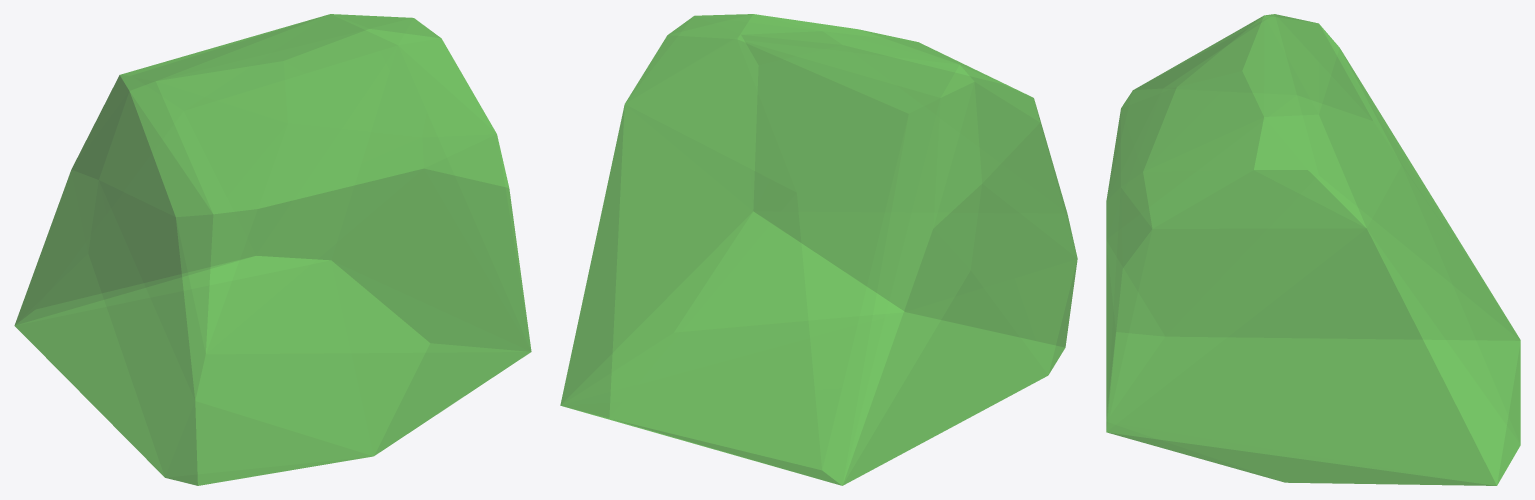
3 renders of one model, left to right at view 1: azimuth 30°, elevation 25°; view 2: azimuth 150°, elevation 25°; view 3: azimuth 270°, elevation 25°, orthographic. The views are drawn at different scales.
Visible parts, largest first — view 1: Shape_IndexedFaceSet.014_Shape_IndexedFaceSet.18105; view 2: Shape_IndexedFaceSet.014_Shape_IndexedFaceSet.18105; view 3: Shape_IndexedFaceSet.014_Shape_IndexedFaceSet.18105.
Boxes of the visible parts, bbox=[...] form: Shape_IndexedFaceSet.014_Shape_IndexedFaceSet.18105: bbox=[14, 14, 531, 485]; Shape_IndexedFaceSet.014_Shape_IndexedFaceSet.18105: bbox=[560, 14, 1077, 485]; Shape_IndexedFaceSet.014_Shape_IndexedFaceSet.18105: bbox=[1106, 14, 1520, 485].
Bounding box in the file's own units: 0.1688 × 0.1677 × 0.1847.
